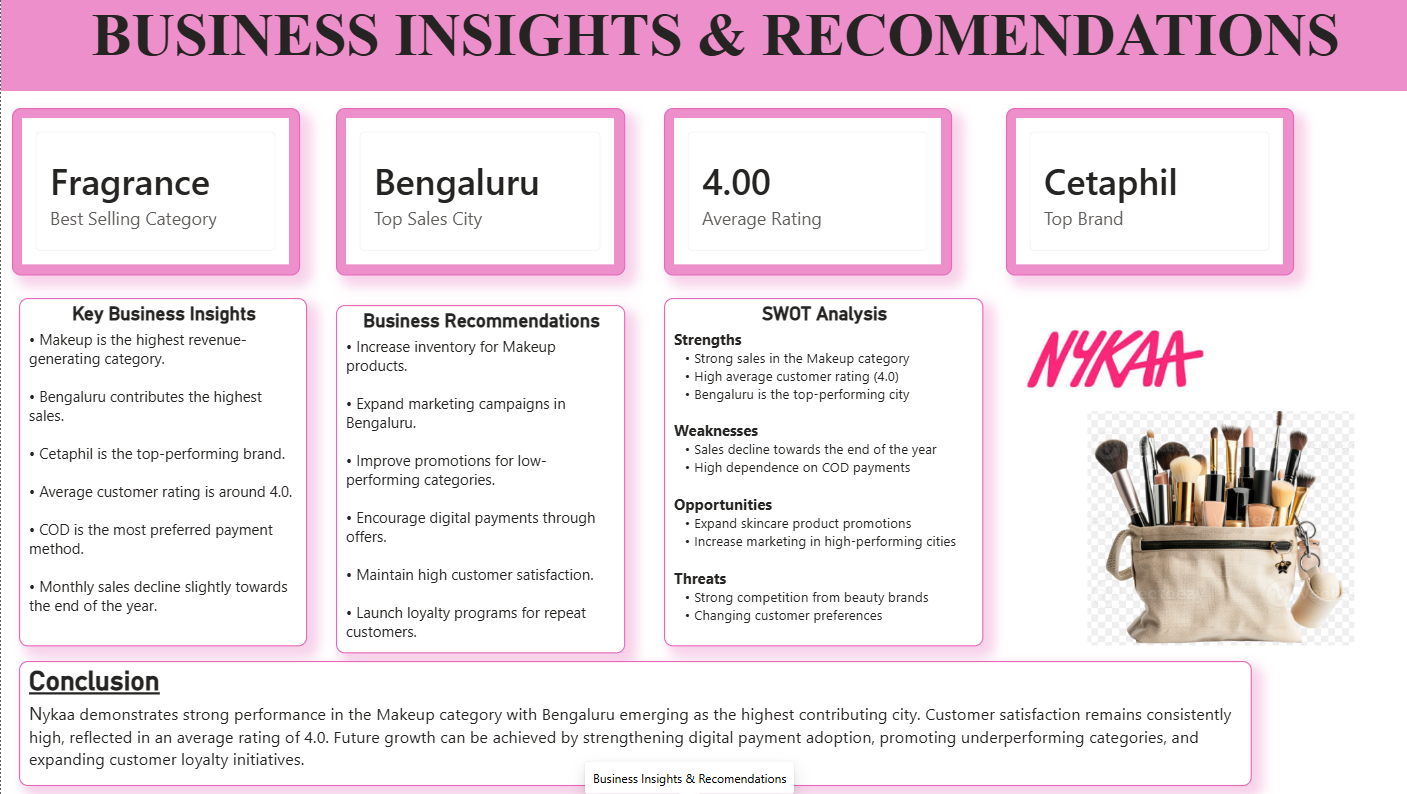

Layout of this report page (visuals, bound fields, positions):
{"tool":"powerbi","page":{"name":"Business  Insights & Recomendations","canvas":[1280,720],"ordinal":3},"visuals":[{"type":"textbox","box":[0,0,1279.7,86],"z":0},{"type":"cardVisual","fields":{"Data":["Min(Sales.Category)"]},"box":[9.7,101.2,257.8,149.8],"z":1000},{"type":"cardVisual","fields":{"Data":["Min(Sales.City)"]},"box":[299.6,101.2,258.7,149.8],"z":2000},{"type":"cardVisual","fields":{"Data":["Avg(Sales.Rating)"]},"box":[593.7,101.2,257.9,149.6],"z":3000},{"type":"cardVisual","fields":{"Data":["Min(Sales.Brand)"]},"box":[900,101.2,257.9,149.6],"z":4000},{"type":"textbox","title":"Key Business Insights","box":[16.1,271.3,257.9,311.6],"z":5000},{"type":"textbox","title":"Business Recommendations","box":[300,277.6,258.8,311.6],"z":6000},{"type":"textbox","title":"SWOT Analysis","box":[593.7,271.3,285.7,311.6],"z":7000},{"type":"textbox","title":"Conclusion","box":[16.1,596.4,1104.2,111.9],"z":8000},{"type":"image","box":[906.3,264.2,184.5,116.4],"z":9000},{"type":"image","box":[917.9,372.5,349.3,210.4],"z":10000}]}

Visuals, with their boxes in screenshot pixels (x1, y1, x2, y2), scaled from the page's 1280x720 canvas onto the 1407x794 screenshot:
textbox: detection(0, 0, 1406, 95)
cardVisual - Min(Sales.Category): detection(11, 112, 294, 277)
cardVisual - Min(Sales.City): detection(329, 112, 614, 277)
cardVisual - Avg(Sales.Rating): detection(653, 112, 936, 277)
cardVisual - Min(Sales.Brand): detection(989, 112, 1273, 277)
"Key Business Insights" textbox: detection(18, 299, 301, 643)
"Business Recommendations" textbox: detection(330, 306, 614, 650)
"SWOT Analysis" textbox: detection(653, 299, 967, 643)
"Conclusion" textbox: detection(18, 658, 1231, 781)
image: detection(996, 291, 1199, 420)
image: detection(1009, 411, 1393, 643)
